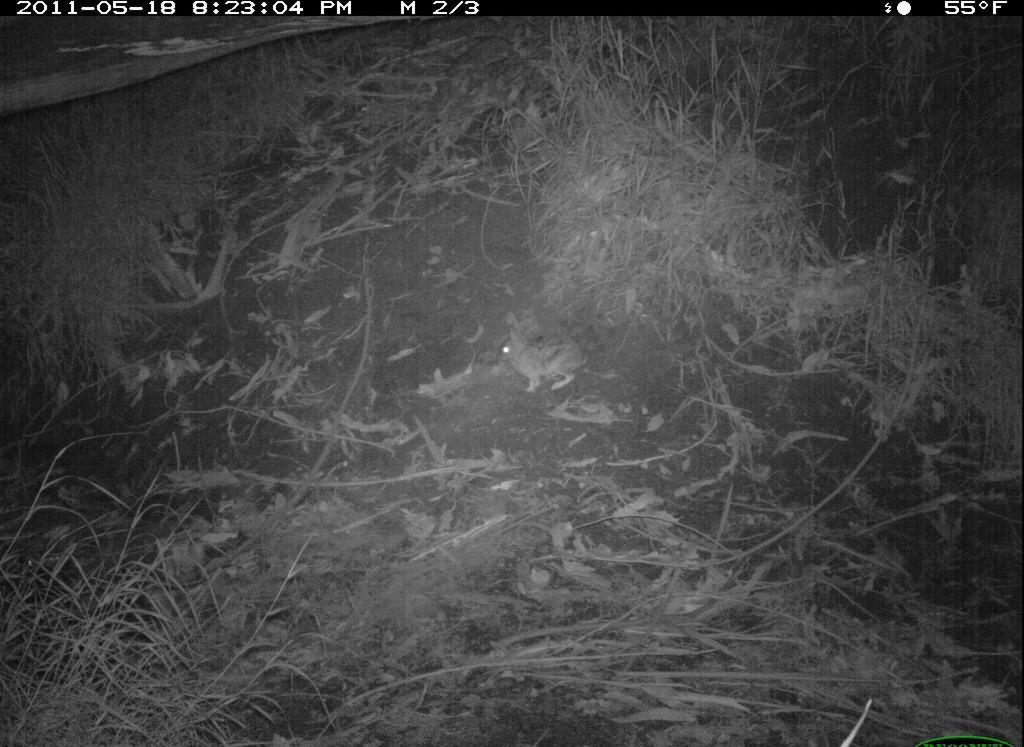rabbit: (486, 305, 598, 404)
